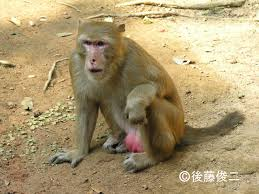monkey: (26, 20, 207, 158)
